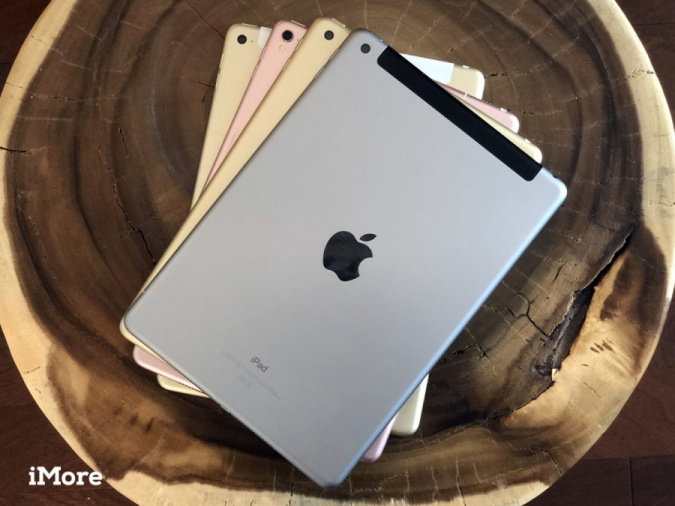apple: (306, 213, 397, 296)
